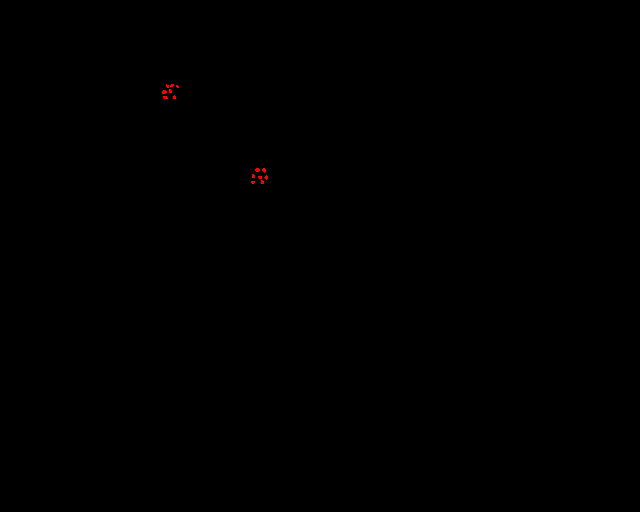Target: (162, 90, 167, 94), (255, 168, 260, 172), (262, 168, 266, 173), (264, 175, 268, 180), (163, 96, 168, 99), (166, 84, 169, 88), (170, 84, 174, 87), (169, 89, 172, 93), (173, 95, 176, 99), (252, 174, 255, 178), (258, 176, 262, 179), (261, 180, 264, 184), (251, 181, 255, 184), (176, 85, 179, 88)
